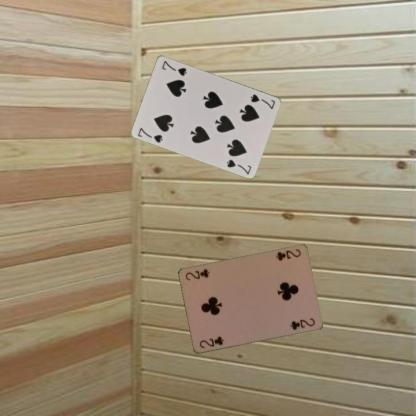2c: (196, 334, 225, 350), (273, 247, 302, 262)
7s: (135, 125, 164, 144), (248, 92, 277, 110)
